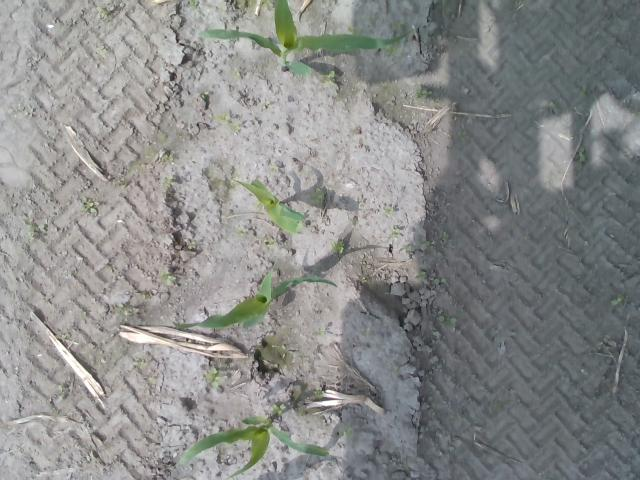Maize: (200, 0, 412, 80), (173, 268, 337, 332), (177, 414, 331, 480), (234, 176, 308, 238)
Weeds: (216, 112, 242, 135), (25, 219, 45, 241), (207, 366, 221, 389), (117, 302, 132, 322), (322, 69, 337, 88), (311, 186, 325, 206), (436, 313, 457, 326), (80, 201, 98, 216), (329, 238, 344, 256), (160, 267, 174, 285), (270, 402, 286, 416), (385, 45, 403, 55), (416, 88, 433, 98), (262, 236, 276, 248), (392, 18, 406, 30), (132, 360, 147, 370), (383, 206, 397, 216), (98, 8, 112, 18), (415, 271, 426, 283), (610, 296, 622, 306), (162, 153, 174, 163), (230, 68, 240, 80), (313, 386, 324, 396), (319, 326, 328, 338), (433, 278, 445, 287), (390, 228, 400, 238), (236, 227, 246, 236), (188, 0, 200, 7)
